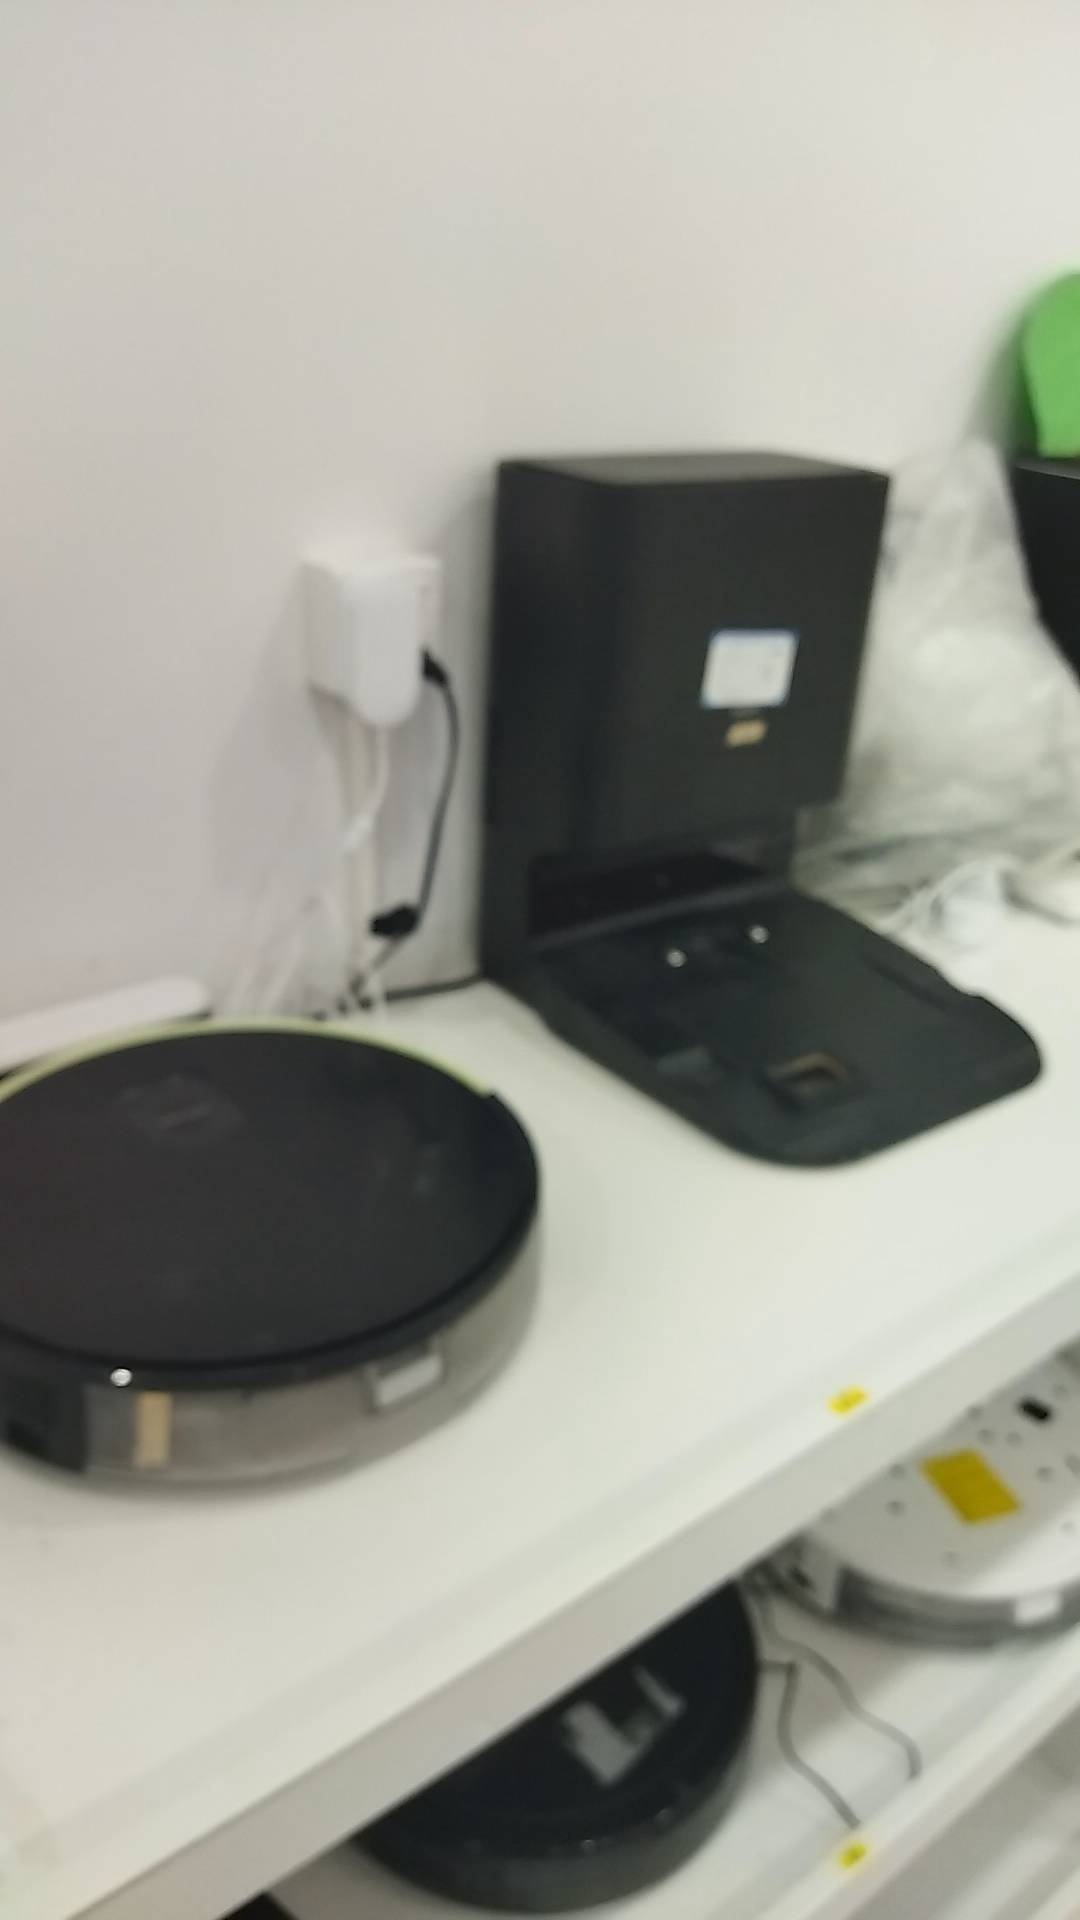dust collecting barrel: (473, 451, 1043, 1166)
